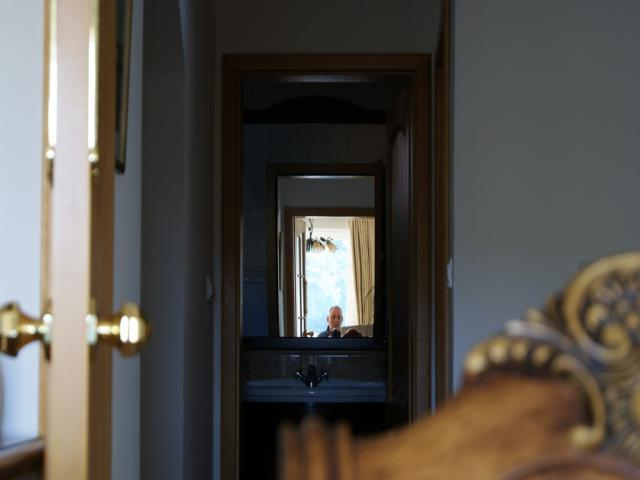Door-handle: (85, 291, 155, 362), (0, 294, 55, 367)
